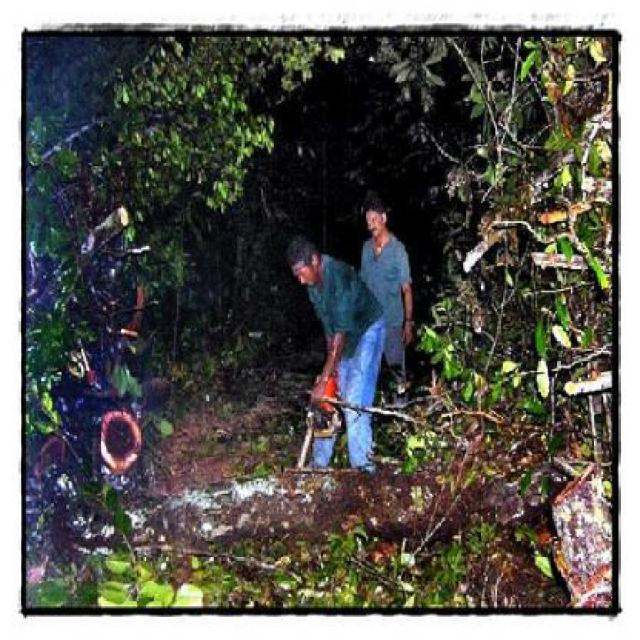Chainsaw: (298, 376, 338, 467)
